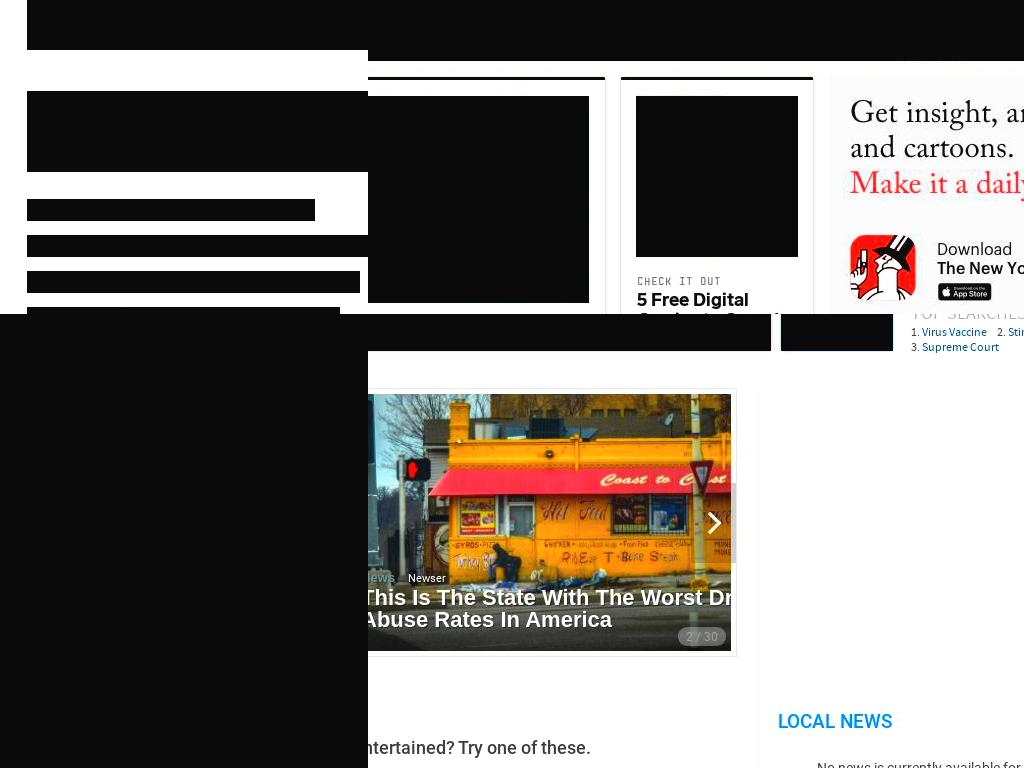button: (368, 394, 731, 651), (731, 394, 1024, 651), (368, 96, 589, 303), (636, 96, 797, 257), (274, 377, 368, 426), (186, 377, 274, 426), (781, 314, 893, 351), (691, 482, 736, 563), (120, 377, 186, 426), (296, 325, 368, 362)
field: (368, 314, 771, 351), (189, 527, 368, 567), (199, 606, 211, 619), (245, 606, 257, 619)
heading: (0, 447, 110, 768), (27, 0, 368, 50), (368, 585, 635, 632), (761, 585, 1024, 632), (368, 738, 717, 757), (199, 577, 368, 605), (636, 290, 798, 314), (249, 449, 361, 471), (172, 719, 244, 736)
iframe: (829, 77, 1024, 314)
image: (368, 96, 589, 303), (636, 96, 798, 257), (189, 450, 234, 509), (702, 502, 725, 543)
link: (0, 314, 368, 768), (40, 235, 368, 257), (40, 271, 360, 293), (40, 199, 315, 221), (40, 307, 340, 314), (172, 653, 283, 669), (922, 340, 999, 356), (922, 325, 987, 341), (761, 570, 795, 585)
text: (27, 91, 368, 172), (778, 708, 966, 738), (249, 474, 368, 512), (817, 760, 1021, 768), (911, 314, 1024, 326), (636, 274, 721, 288), (807, 572, 856, 585), (27, 199, 41, 221), (27, 235, 41, 257), (27, 271, 41, 293), (216, 605, 235, 619), (262, 605, 277, 619), (704, 630, 718, 644), (693, 630, 704, 644), (27, 307, 41, 314), (686, 630, 693, 644)
